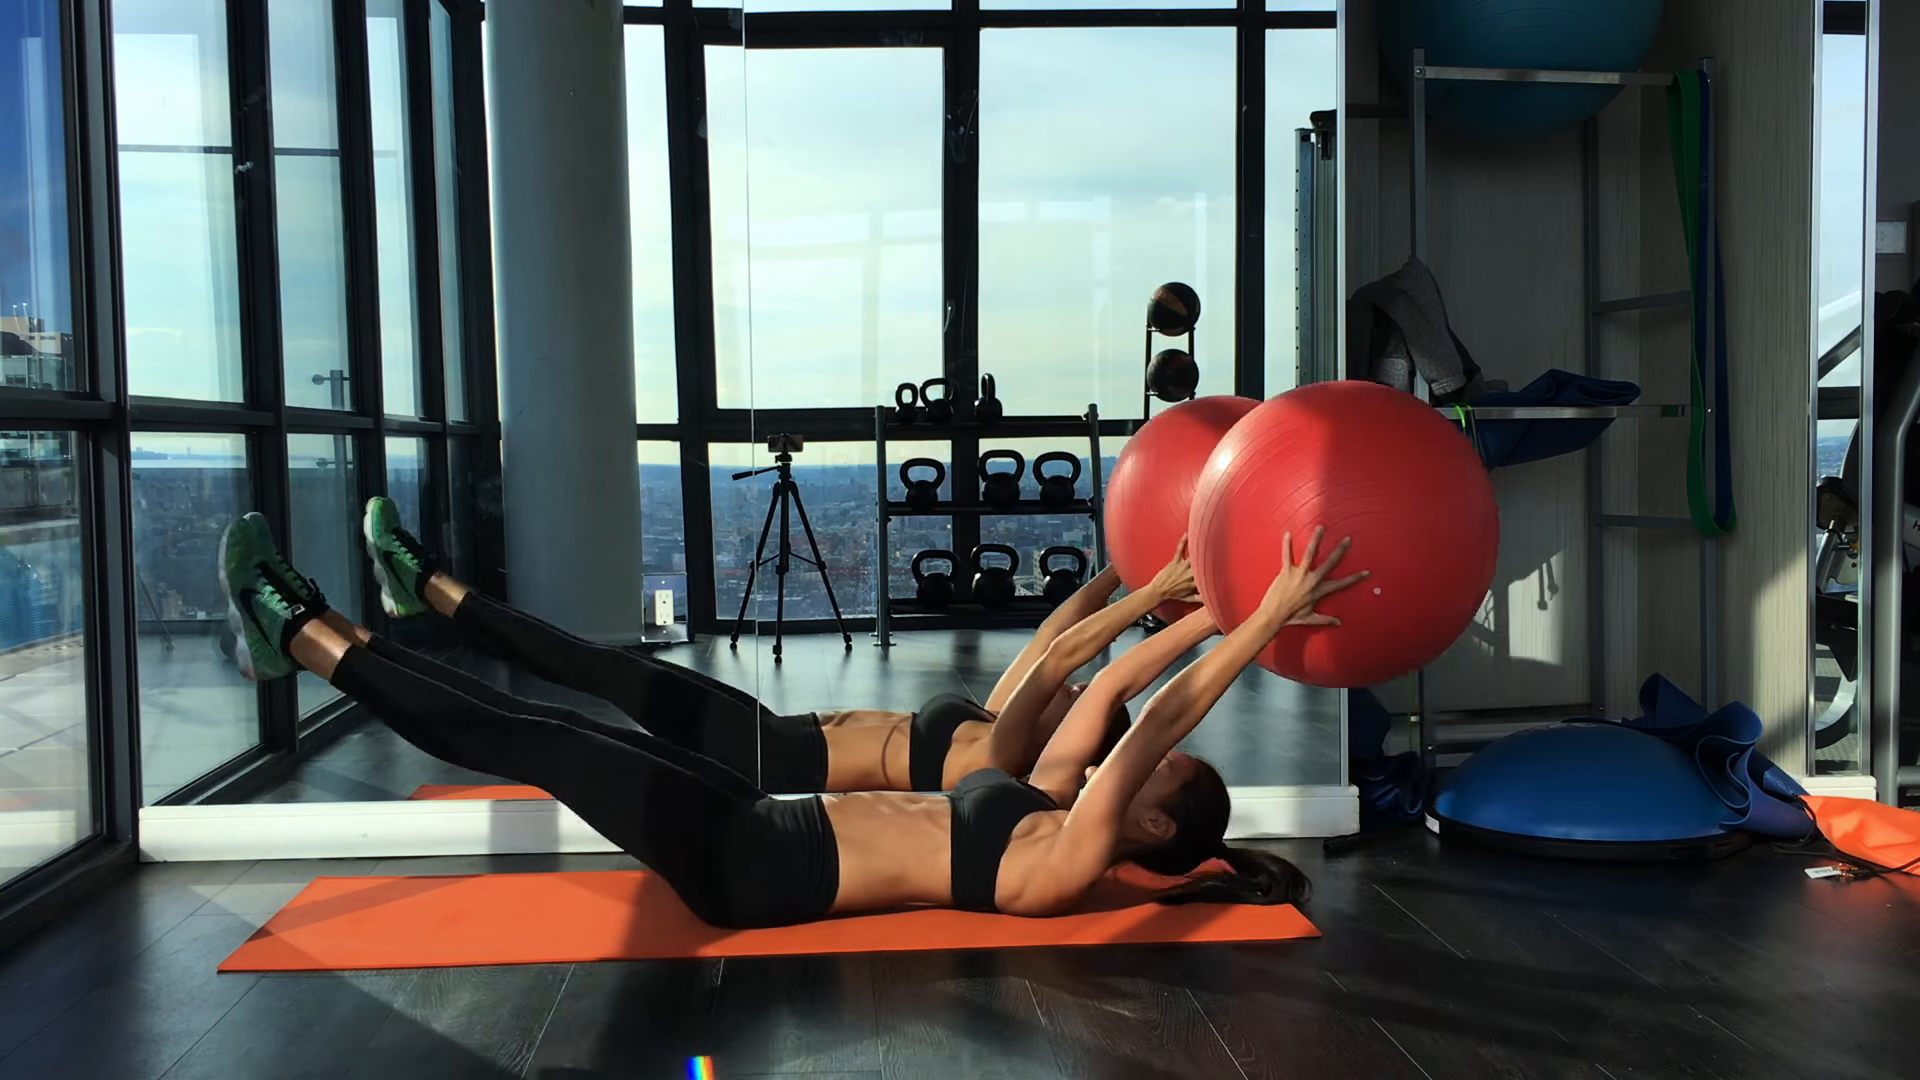yogaball: (1192, 373, 1506, 692)
